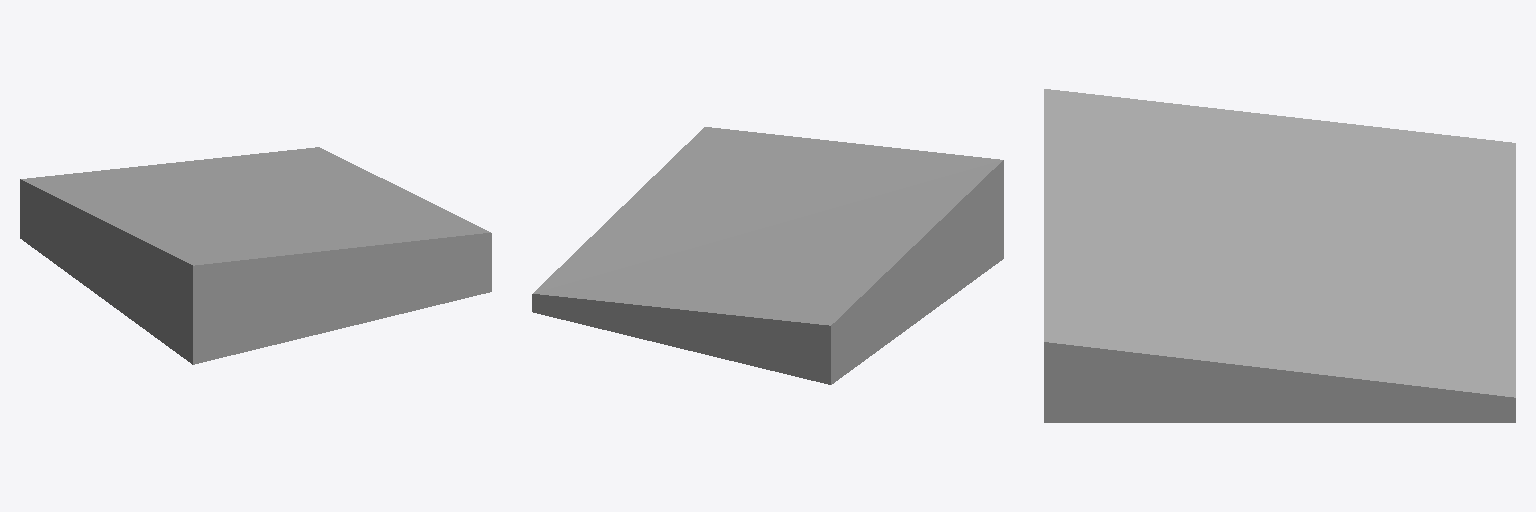
The robot description file, URDF, robot "40x40_10deg_unbalanced":
<?xml version='1.0' encoding='utf-8'?>
<robot name="40x40_10deg_unbalanced">
  <link name="base_link">
    <inertial>
      <origin xyz="0.0 0.0 0.0" rpy="0 0 0" />
      <mass value="1" />
      <inertia ixx="0.001" ixy="0" ixz="0" iyy="0.001" iyz="0" izz="0.001" />
    </inertial>
    <visual>
      <origin xyz="0 0 0" rpy="0 0 0" />
      <geometry>
        <mesh filename="package://40x40_10deg_unbalanced/meshes/40X40_10deg_unbalanced.stl" scale="1 1 1" />
      </geometry>
      <material name="grey">
        <color rgba="0.7 0.7 0.7 1.0" />
      </material>
    </visual>
    <collision>
      <origin xyz="0 0 0" rpy="0 0 0" />
      <geometry>
        <mesh filename="package://40x40_10deg_unbalanced/meshes/40X40_10deg_unbalanced.stl" scale="1 1 1" />
      </geometry>
    </collision>
  </link>
</robot>

--- What the picture shows (computed from the rendered views, not written in the file) ---
Views: 3 orthographic renders of the robot side by side, from view 1: azimuth 30°, elevation 25°; view 2: azimuth 150°, elevation 25°; view 3: azimuth 270°, elevation 25°.
Model 40x40_10deg_unbalanced with 1 links and 0 joints (none), rooted at base_link, posed all joints at 0.
Links seen in each view (by area): view 1: base_link; view 2: base_link; view 3: base_link.
Link boxes in pixels (<box>): base_link: <box>20,147,491,364</box>; base_link: <box>532,127,1003,384</box>; base_link: <box>1044,89,1515,422</box>.
Size in the robot's own frame: 0.4 by 0.4 by 0.127 metres.
1 mesh visuals loaded from 1 distinct referenced files (1 binary STL).